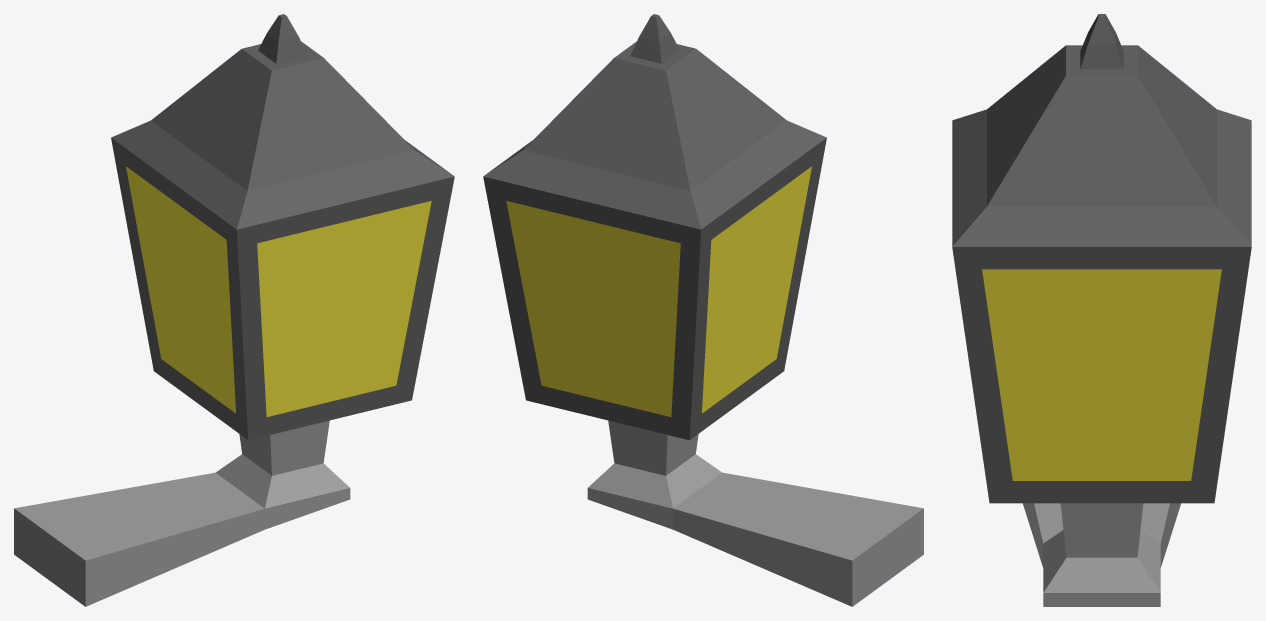
File: Wall_Lightmare2.fbx
3 views of the same model, side by side, from view 1: azimuth 30°, elevation 25°; view 2: azimuth 150°, elevation 25°; view 3: azimuth 270°, elevation 25° (orthographic). The views are drawn at different scales.
Parts seen in each view (by area): view 1: Куб; view 2: Куб; view 3: Куб.
Part boxes in pixels (left/top/right/bottom): Куб: left=14, top=14, right=454, bottom=606; Куб: left=483, top=14, right=923, bottom=606; Куб: left=952, top=14, right=1251, bottom=606.
Size of the model in its own units: 418 by 593 by 266.
